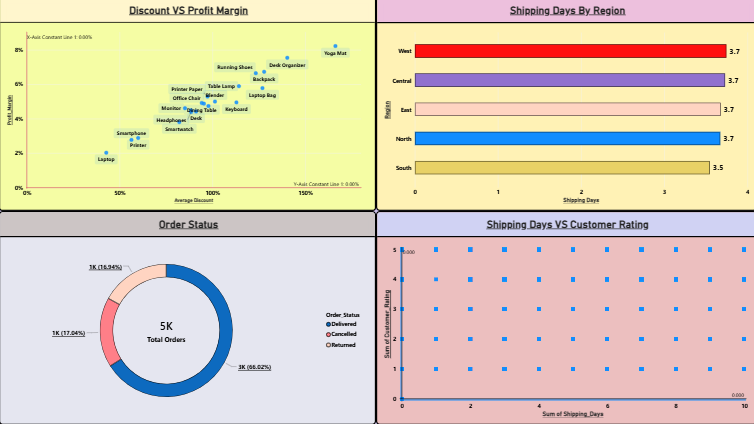

The page's visual inventory and layout, read from the dashboard file:
{"tool":"powerbi","page":{"name":"04.Operations Analysis","canvas":[1920,1080],"ordinal":3},"visuals":[{"type":"scatterChart","title":" Discount VS Profit Margin","fields":{"Category":["Products.Product_Name"],"X":["Measure.Average Discount"],"Y":["Sum(Sales.Profit_Margin)"]},"box":[10.1,0,949.9,539.2],"z":0},{"type":"clusteredBarChart","title":"Shipping Days By Region","fields":{"Category":["Customers.Region"],"Y":["Measure.Average Shipping Days"]},"box":[960,0,960,539.2],"z":1000},{"type":"donutChart","title":"Order Status","fields":{"Category":["Orders.Order_Status"],"Y":["Measure.Total Orders"]},"box":[10.1,539.2,949.9,539.2],"z":2000},{"type":"scatterChart","title":" Shipping Days VS Customer Rating","fields":{"Category":["Orders.Order_ID"],"X":["Sum(Sales.Shipping_Days)"],"Y":["Sum(Sales.Customer_Rating)"]},"box":[960,539.2,960,539.2],"z":3000}]}

Visuals, with their boxes in screenshot pixels (x1, y1, x2, y2), scaled from the page's 1920x1080 canvas onto the 754x424 screenshot:
" Discount VS Profit Margin" scatterChart: bbox=(4, 0, 377, 212)
"Shipping Days By Region" clusteredBarChart: bbox=(377, 0, 753, 212)
"Order Status" donutChart: bbox=(4, 212, 377, 423)
" Shipping Days VS Customer Rating" scatterChart: bbox=(377, 212, 753, 423)
